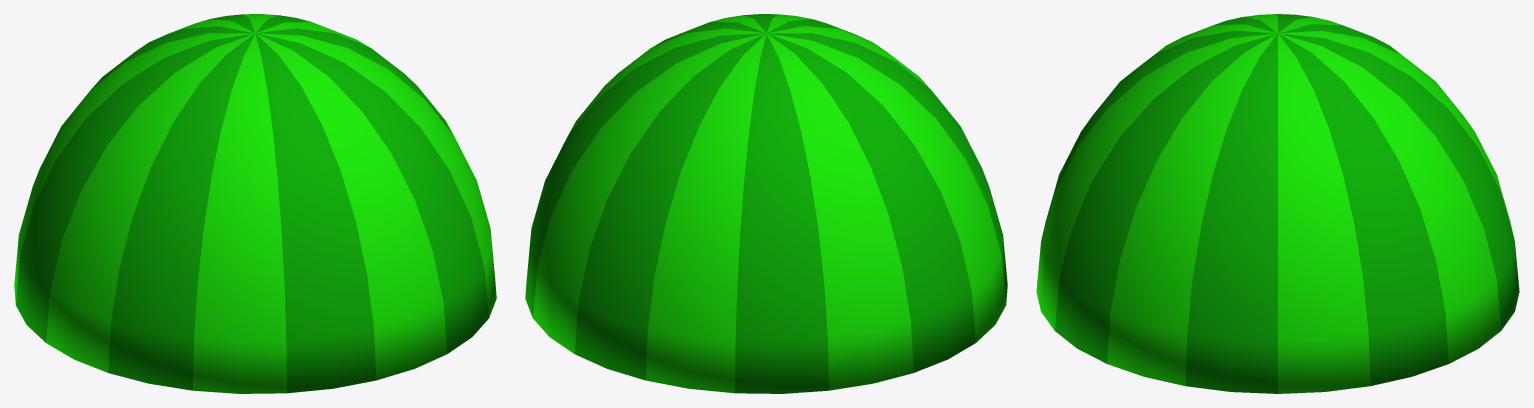
Rendered from watermelon-half.fbx.
3 views of the same model, side by side, from view 1: azimuth 30°, elevation 25°; view 2: azimuth 150°, elevation 25°; view 3: azimuth 270°, elevation 25° (orthographic).
Parts seen in each view (by area): view 1: watermalon-half; view 2: watermalon-half; view 3: watermalon-half.
Part boxes in pixels (<box>): watermalon-half: <box>14,14,496,393</box>; watermalon-half: <box>525,14,1007,393</box>; watermalon-half: <box>1036,14,1519,393</box>.
Bounding box in the file's own units: 200 × 119 × 200.
